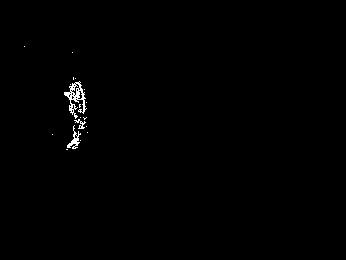person: (61, 78, 87, 151)
